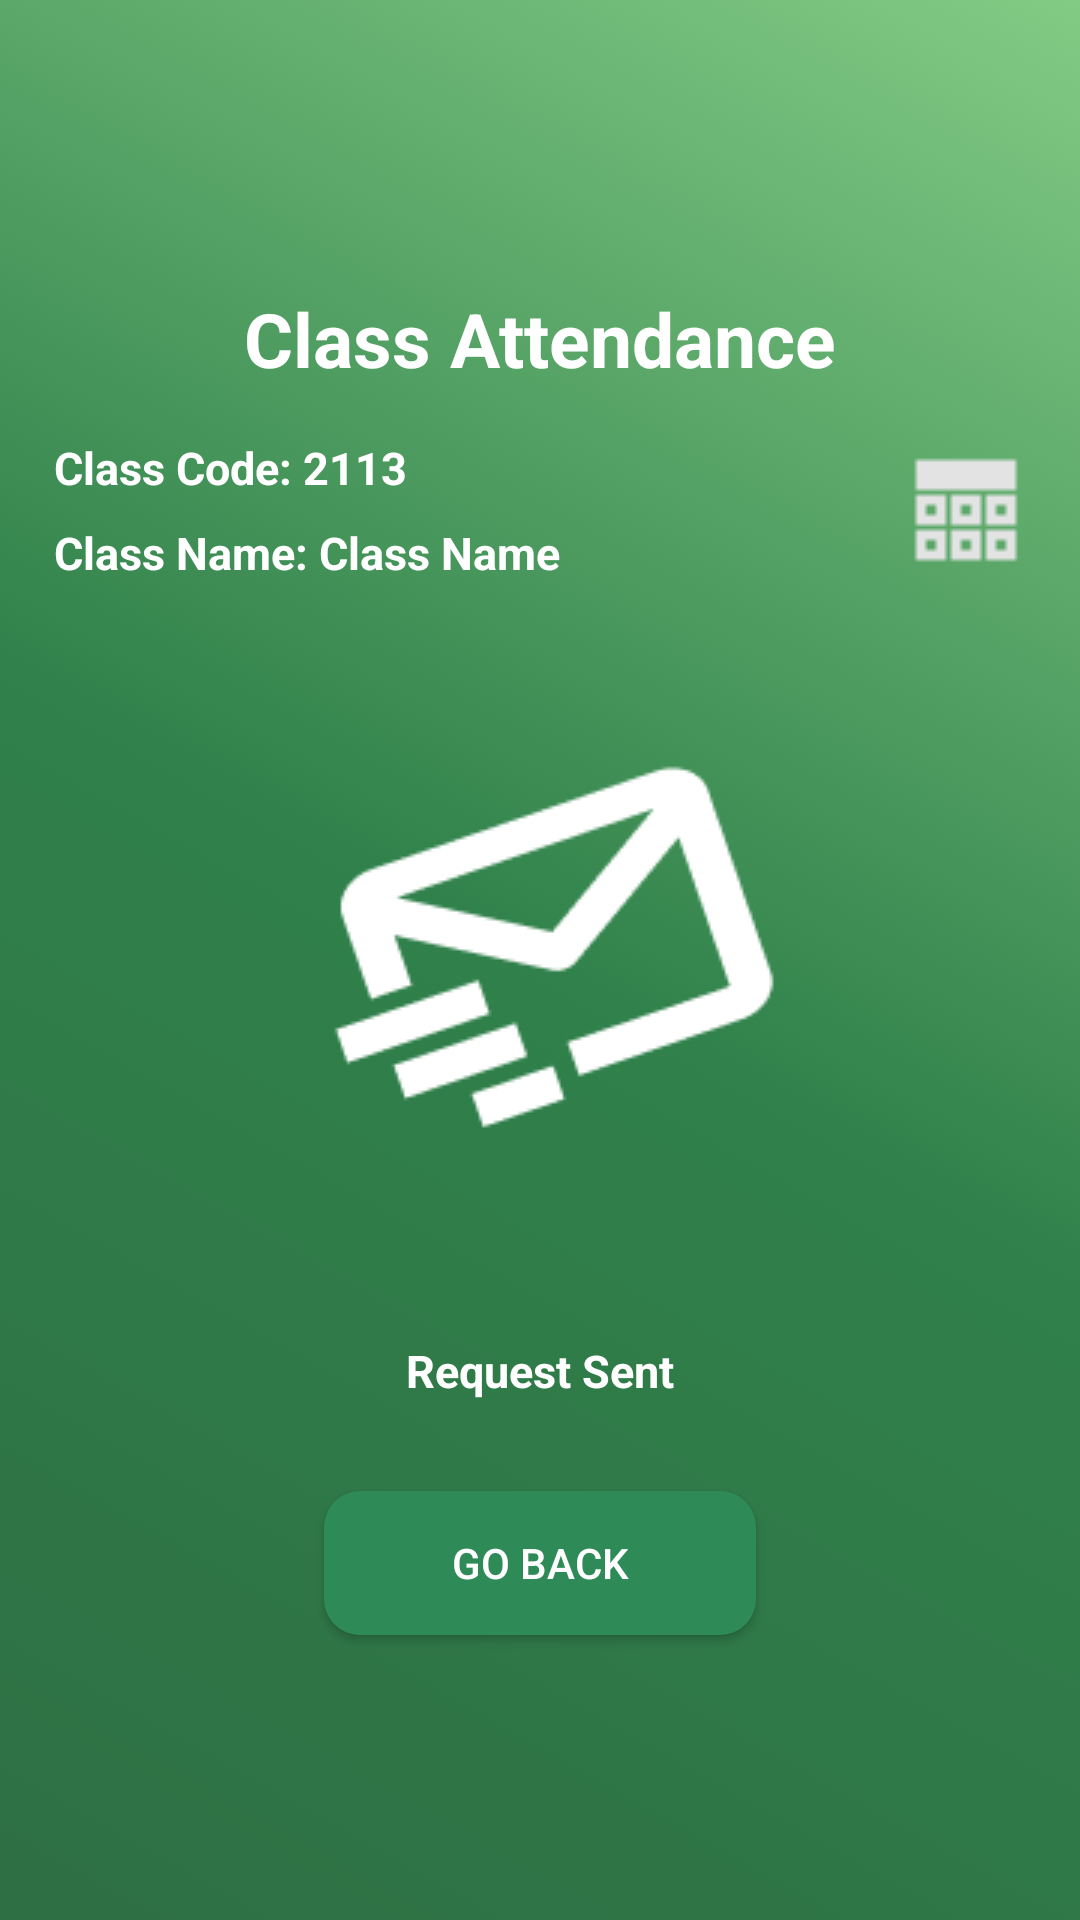

Screen size 1080px x 1920px. Icon name, then its center in pixels as (x,y):
attndc tbl: (966,510)
